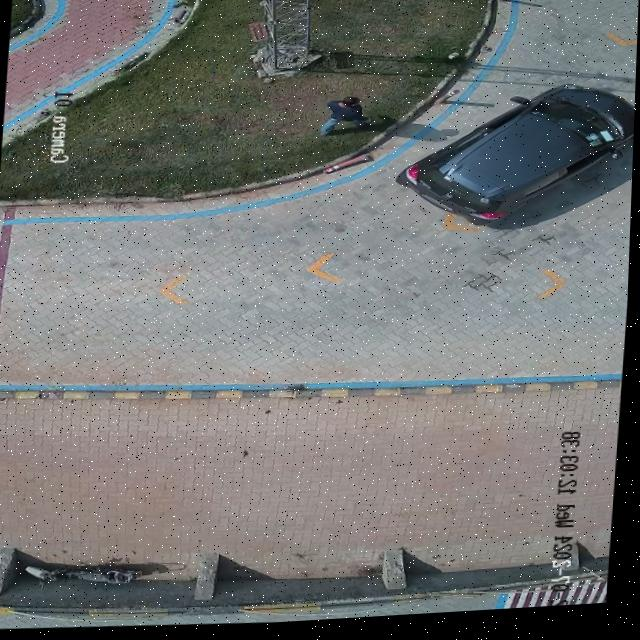car: (398, 92, 636, 229)
